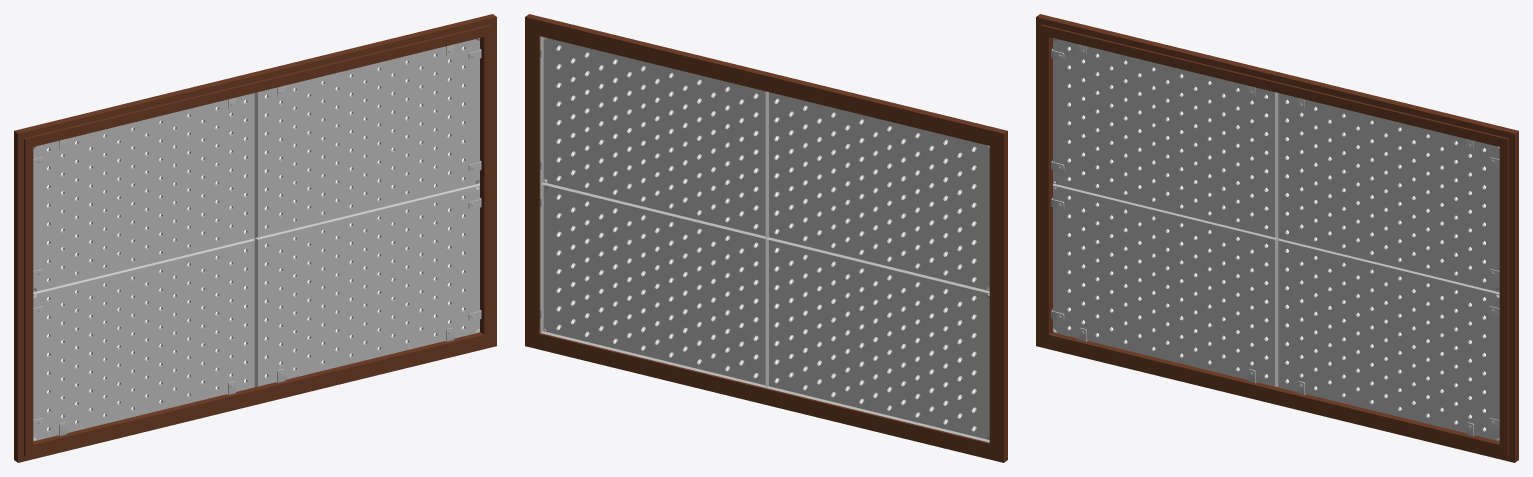
The model's file is Display Rack.fbx.
3 views of the same model, side by side, from view 1: azimuth 30°, elevation 25°; view 2: azimuth 150°, elevation 25°; view 3: azimuth 330°, elevation 25° (orthographic).
Parts seen in each view (by area): view 1: Weapon_Rack_Mount, wepaon_Rack_Wood; view 2: Weapon_Rack_Mount, wepaon_Rack_Wood; view 3: Weapon_Rack_Mount, wepaon_Rack_Wood.
Part boxes in pixels (x1,y1,x2,y2): Weapon_Rack_Mount: (33, 38, 481, 441); wepaon_Rack_Wood: (14, 14, 496, 462); Weapon_Rack_Mount: (540, 36, 989, 442); wepaon_Rack_Wood: (525, 14, 1007, 462); Weapon_Rack_Mount: (1051, 38, 1499, 441); wepaon_Rack_Wood: (1036, 14, 1518, 462).
Size of the model in its own units: 211 by 138 by 4.12.
